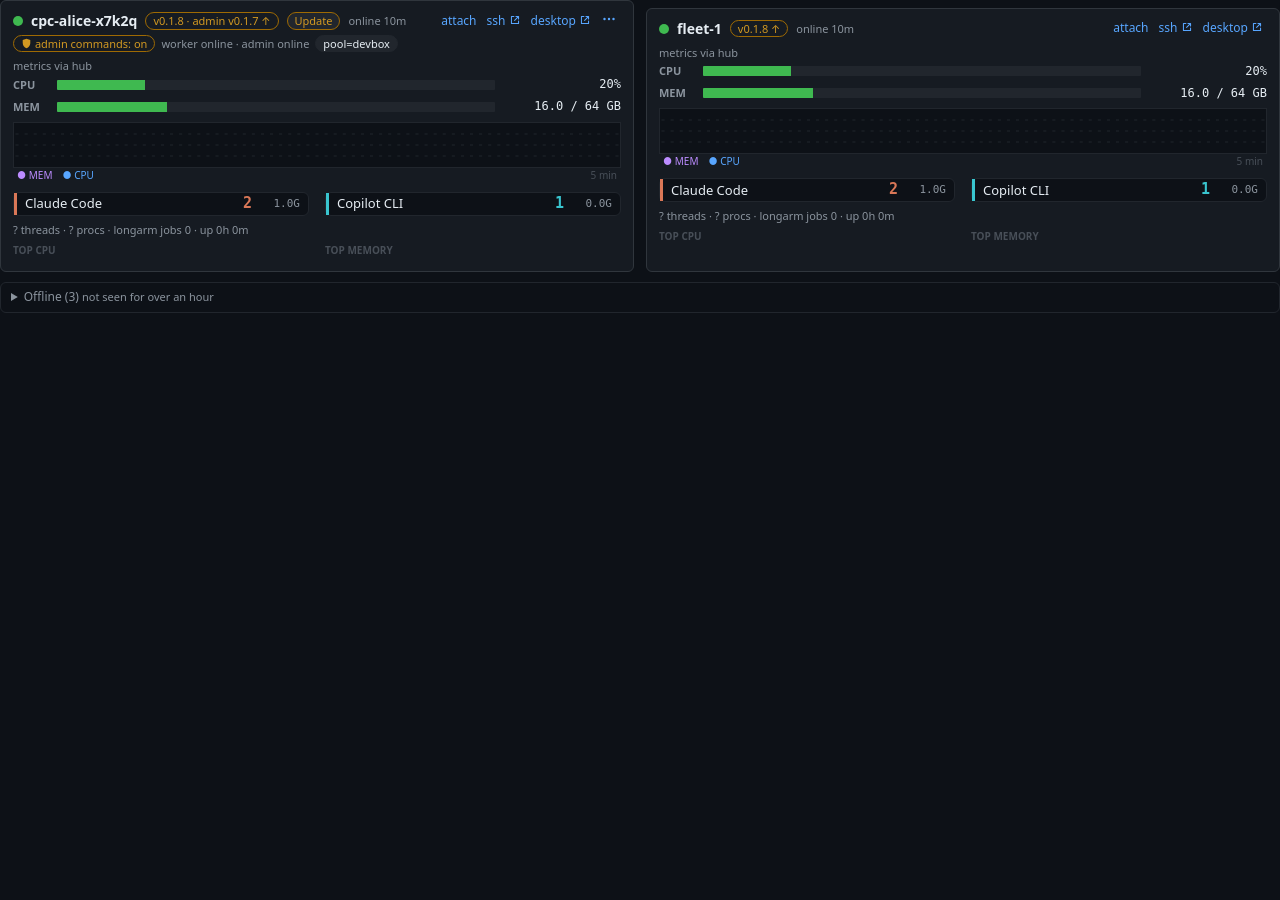
Test case: PoolTab › shows the versions and "Update to X" for the owner; runs the update through the daemon
This screenshot has width=1280, height=900.
Expected: the text with test id "version" reads "v0.1.8 · admin v0.1.7 ↑", [145, 12, 279, 30]
Step 1. Click the button with test id "update-btn" → click(313, 21), box [286, 12, 340, 30]
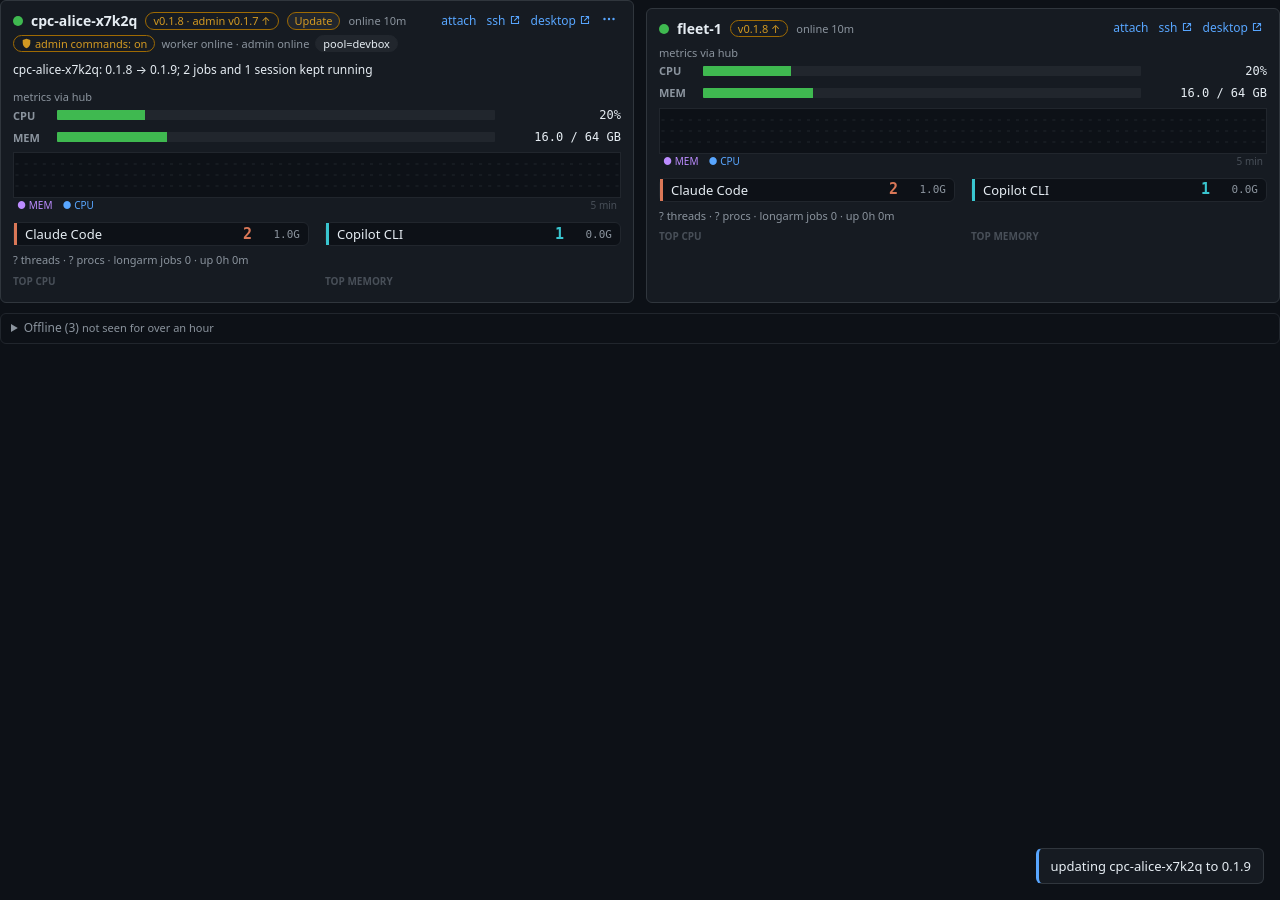
Result: the text with test id "update-line" shows "2 jobs and 1 session kept running" at [13, 61, 373, 78]
